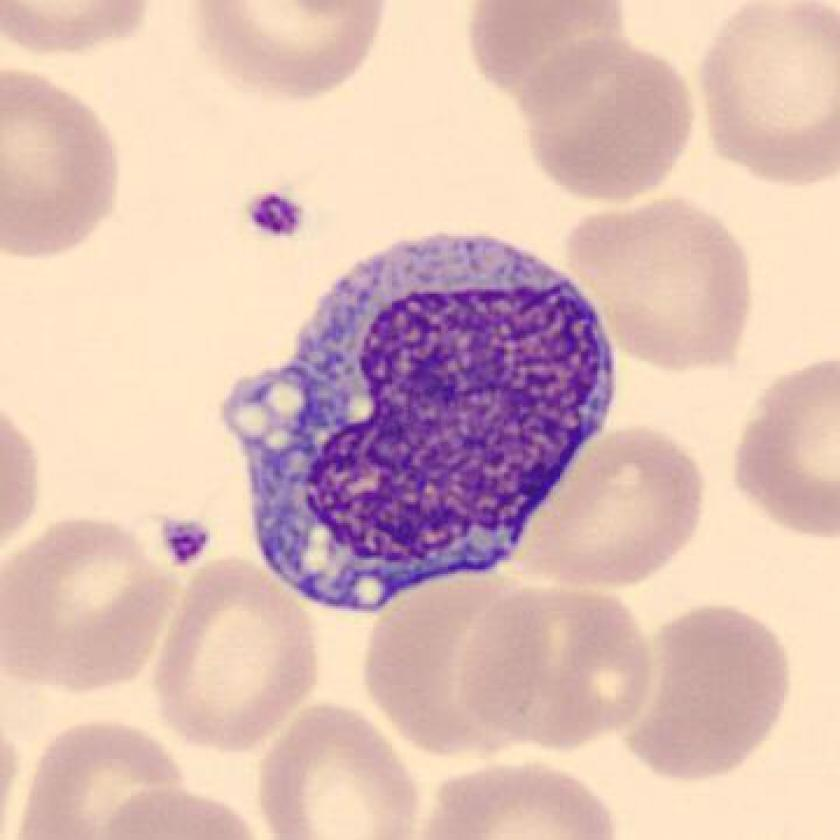monocyte: (202, 209, 640, 633)
